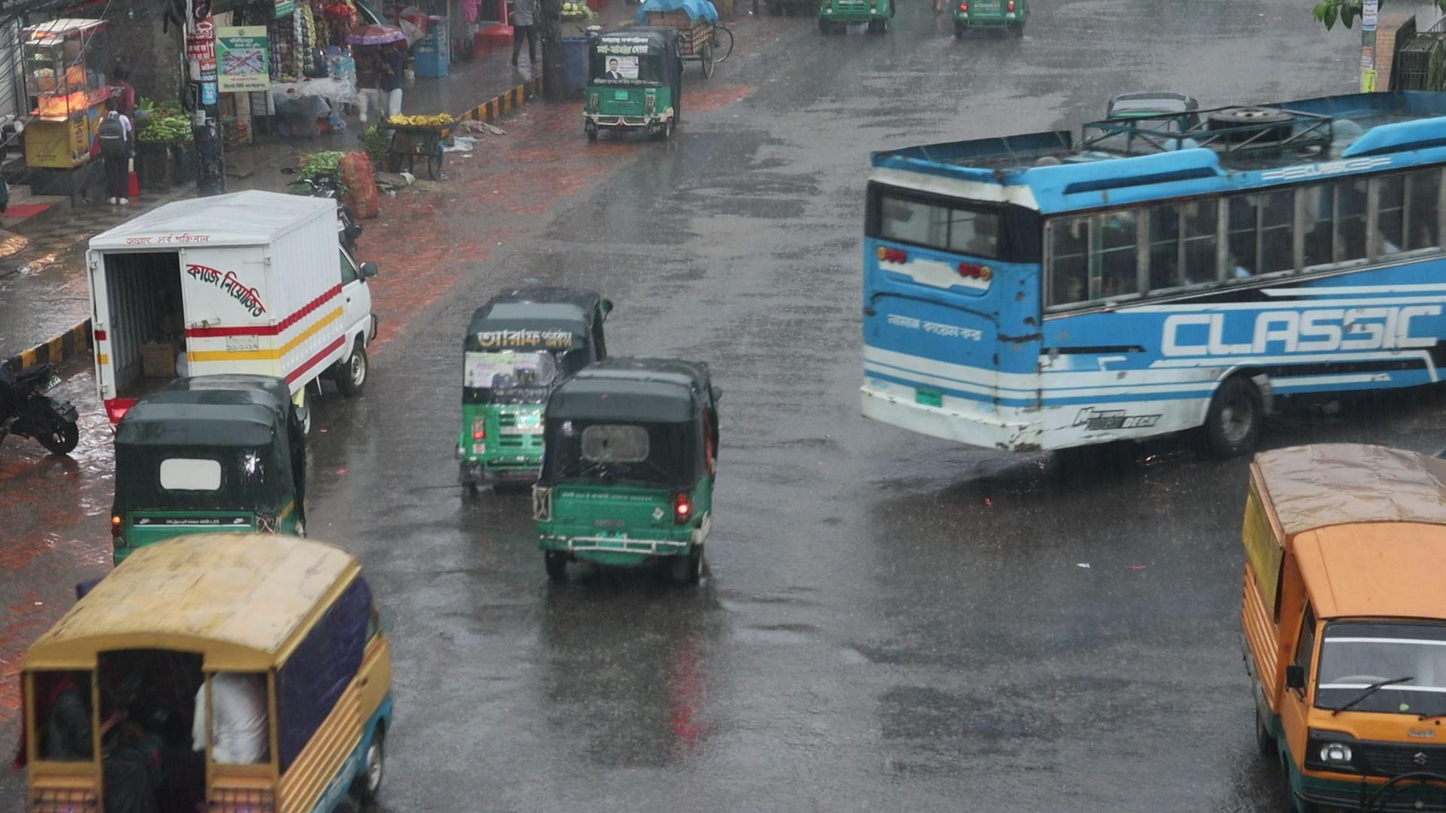Bus: (853, 79, 1446, 456)
Truck: (15, 526, 398, 813), (1234, 436, 1446, 813)
